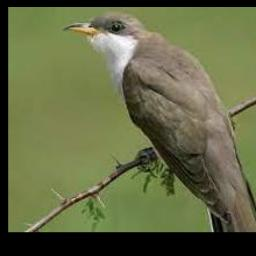Cuckoo: (64, 12, 256, 232)
